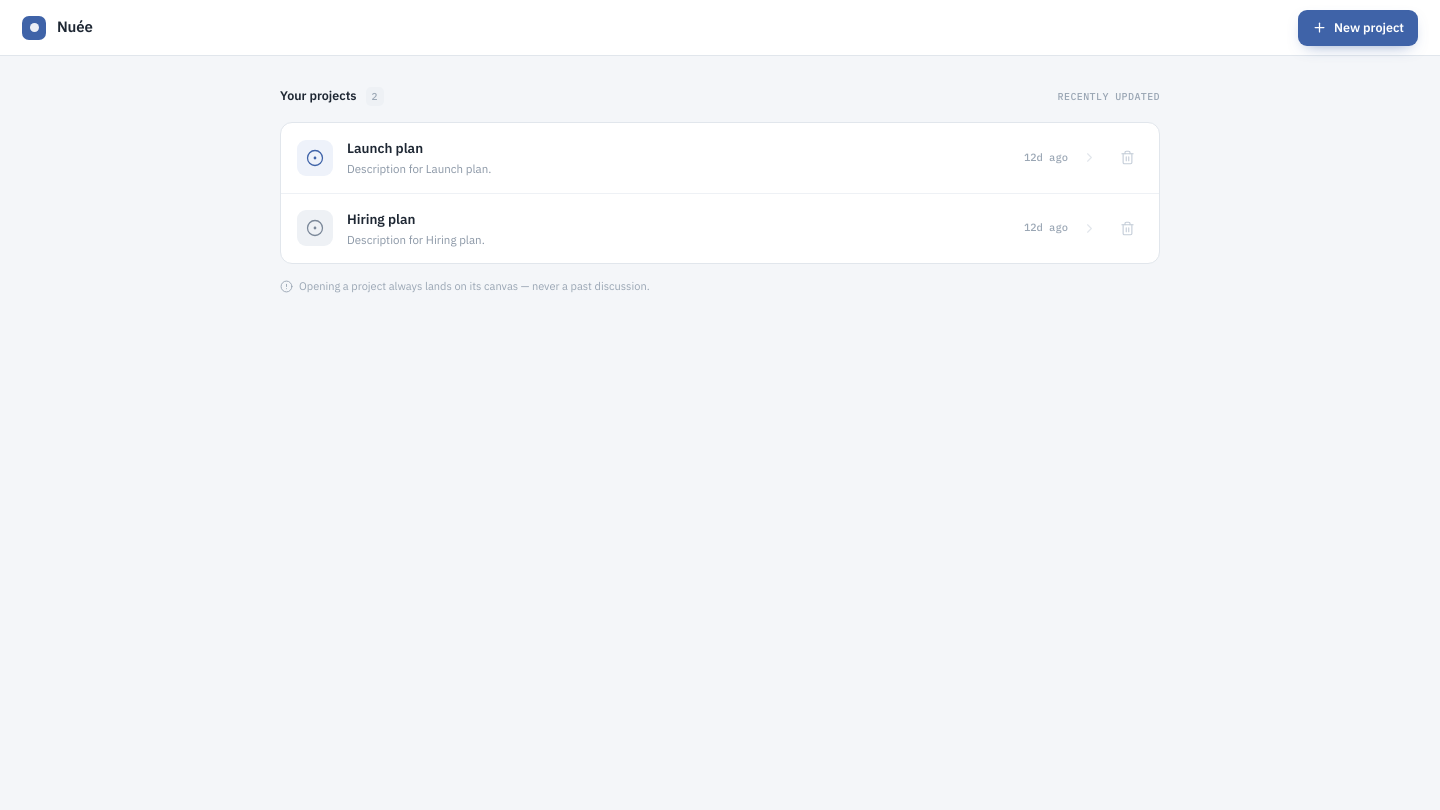
Test: Project list deletion › removes the deleted card, announces it, and keeps focus in the page
expect the text "Launch plan" is shown: met, box x1=347 y1=139 x2=423 y2=157
expect the text "Hiring plan" is shown: met, box x1=347 y1=210 x2=416 y2=228
Click the button named "Delete Hiring plan" at (1127, 228), box x1=1111 y1=212 x2=1143 y2=244
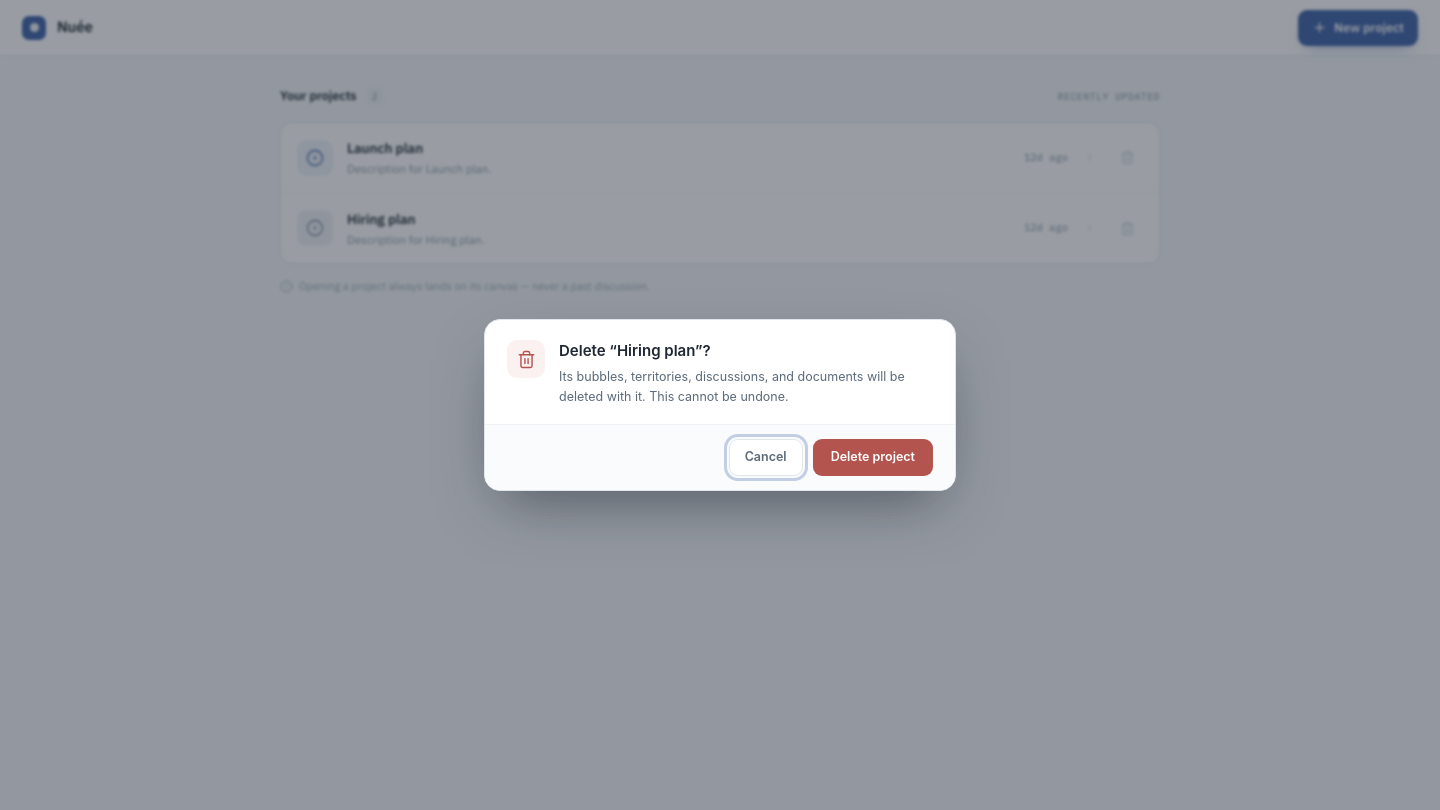
expect the dialog shows "Delete “Hiring plan”?": met, box x1=484 y1=319 x2=956 y2=491
Click the button "Delete project" at (873, 457), box x1=813 y1=439 x2=933 y2=476
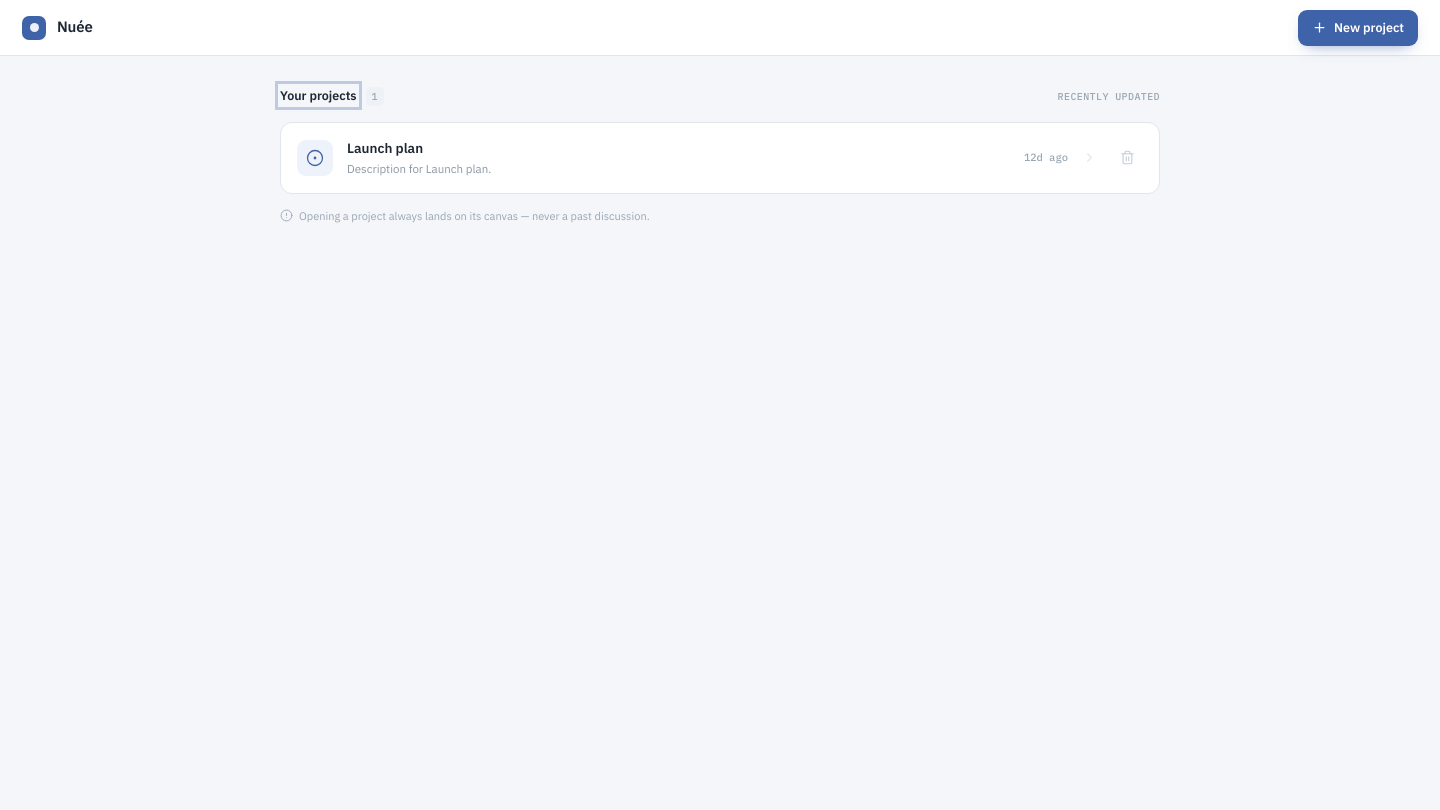
expect the text "Launch plan" is shown: met, box x1=347 y1=139 x2=423 y2=157
expect the dialog is gone: met
